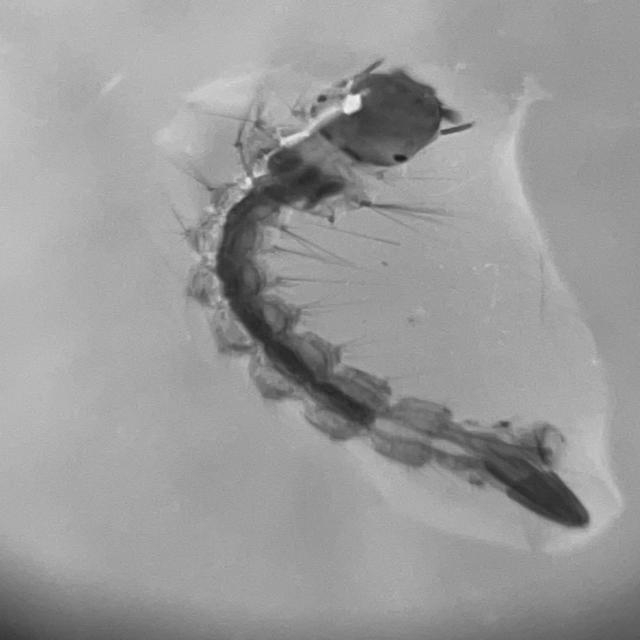larvas: (194, 67, 594, 530)
